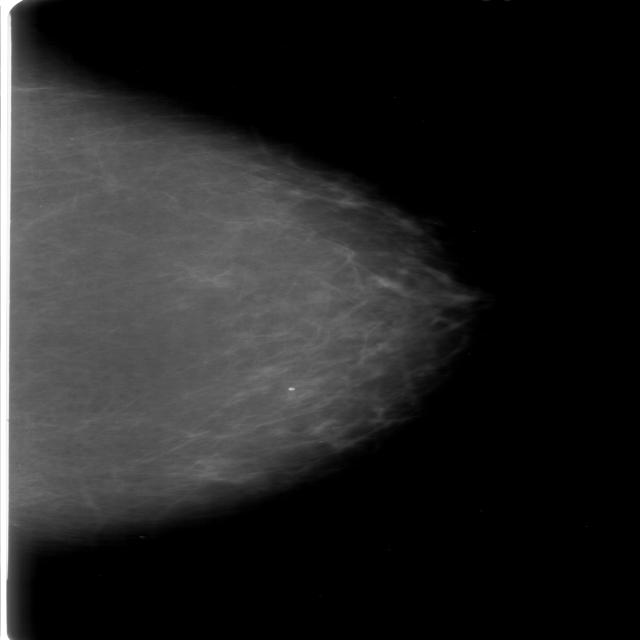normal: (0, 34, 496, 532)
